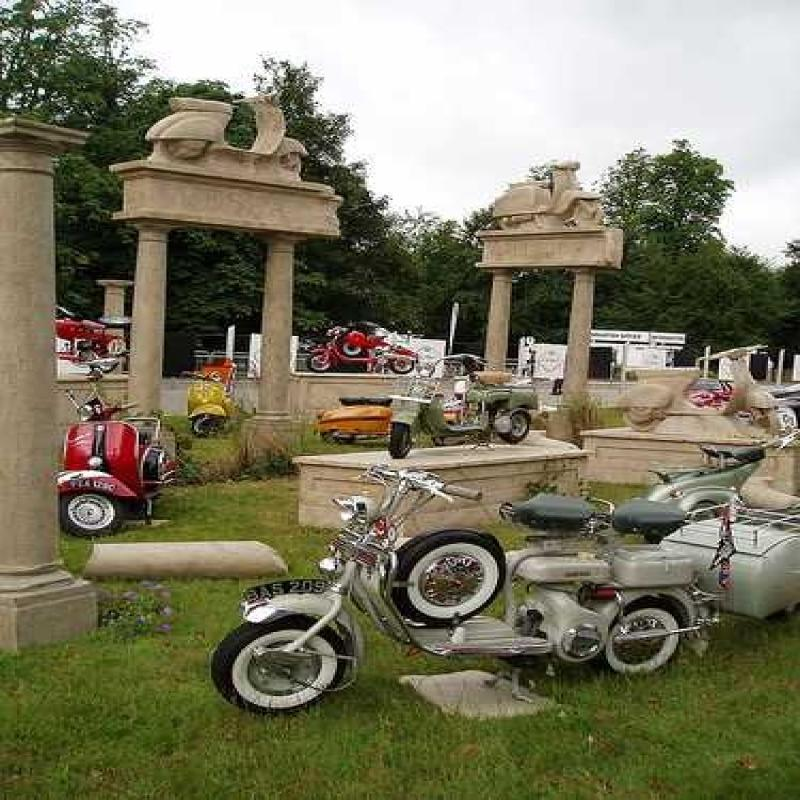bike: (55, 360, 182, 536)
